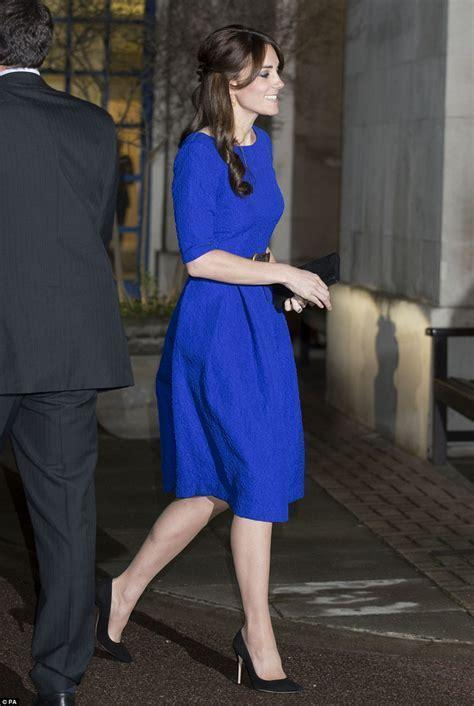dress: (154, 126, 308, 522)
